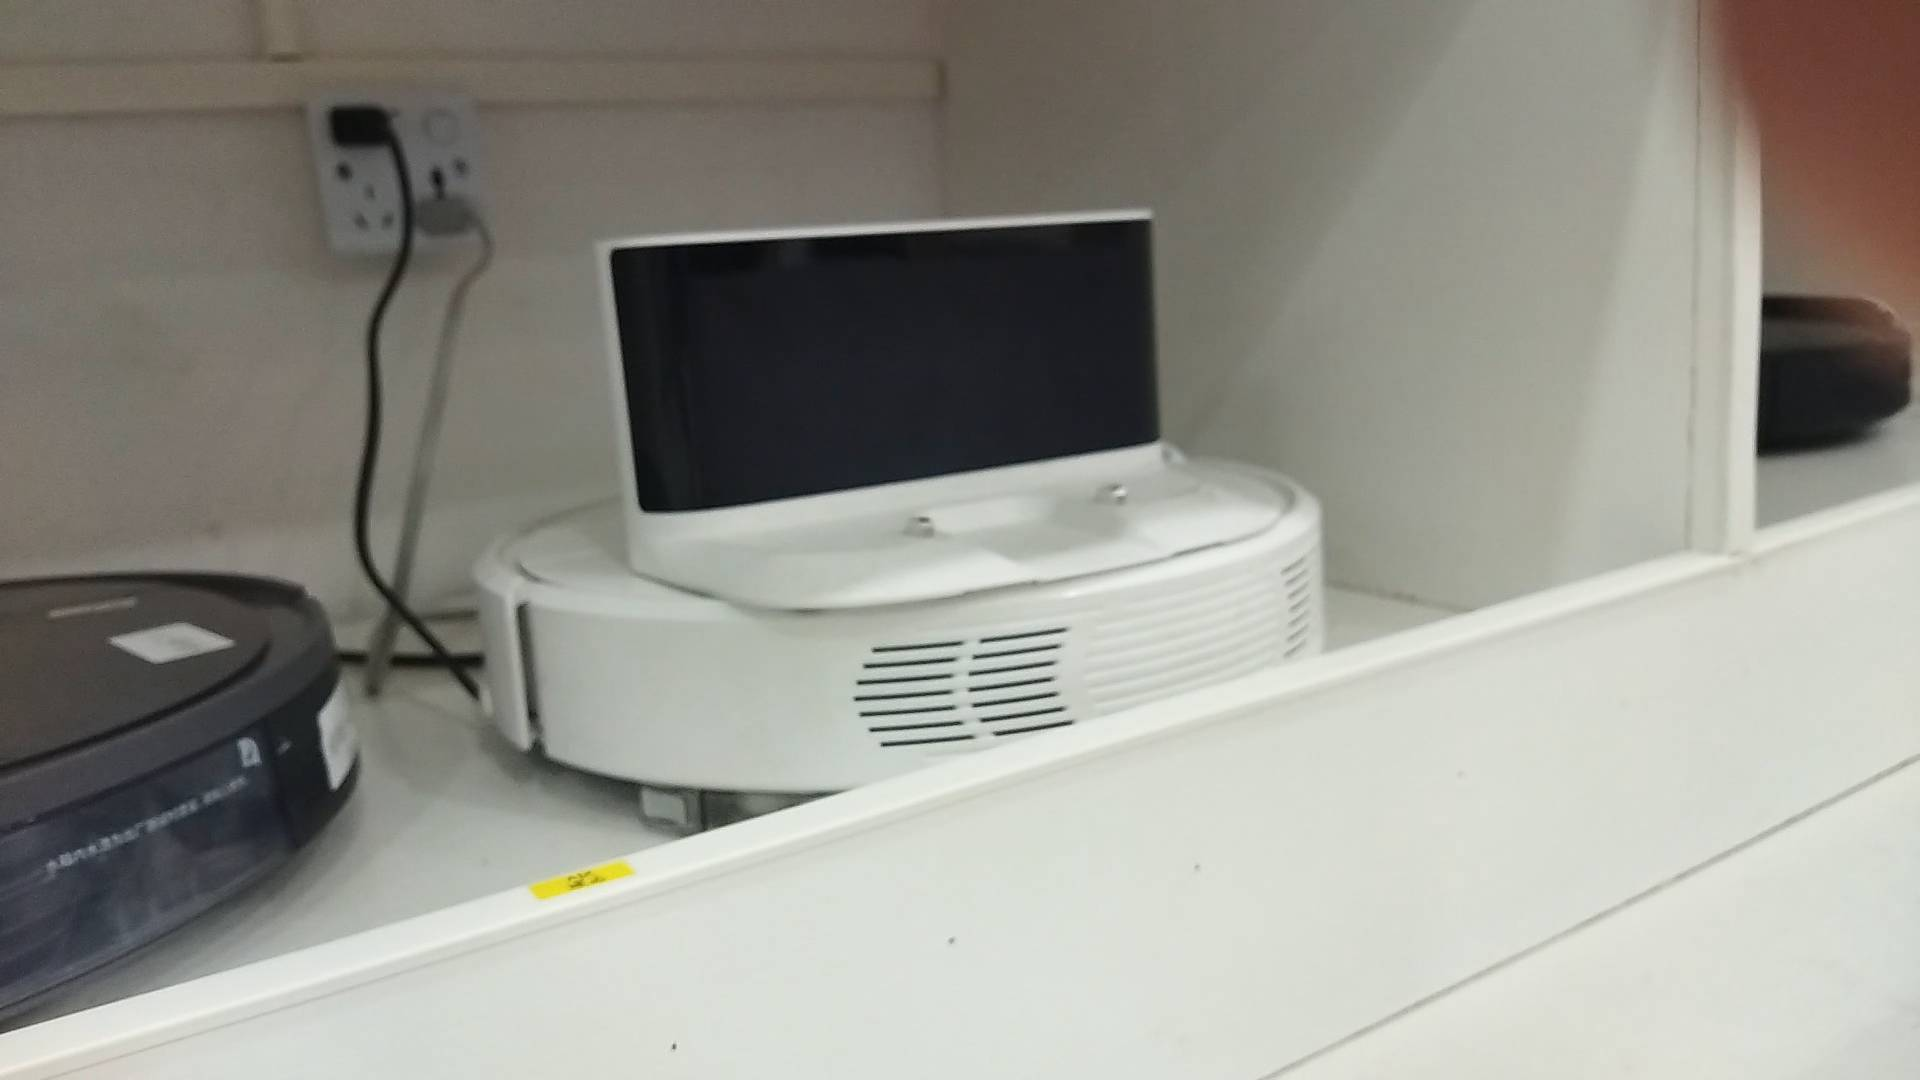recharge seat: (593, 208, 1288, 615)
